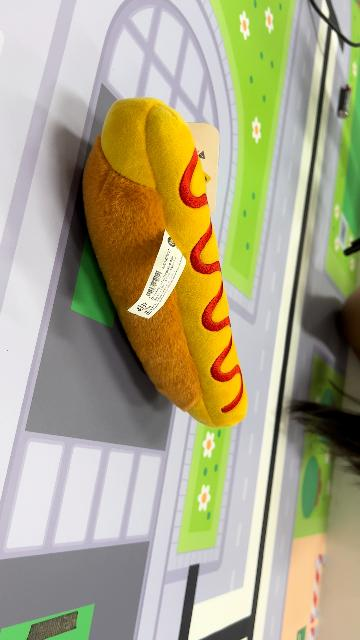hotdog: (82, 96, 250, 430)
